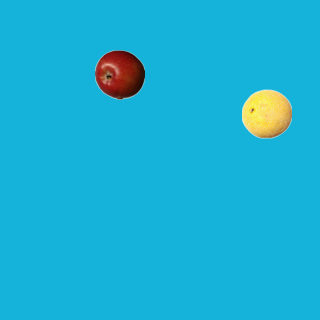Apple Braeburn: (94, 49, 144, 99)
Cantaloupe 1: (241, 88, 291, 138)
